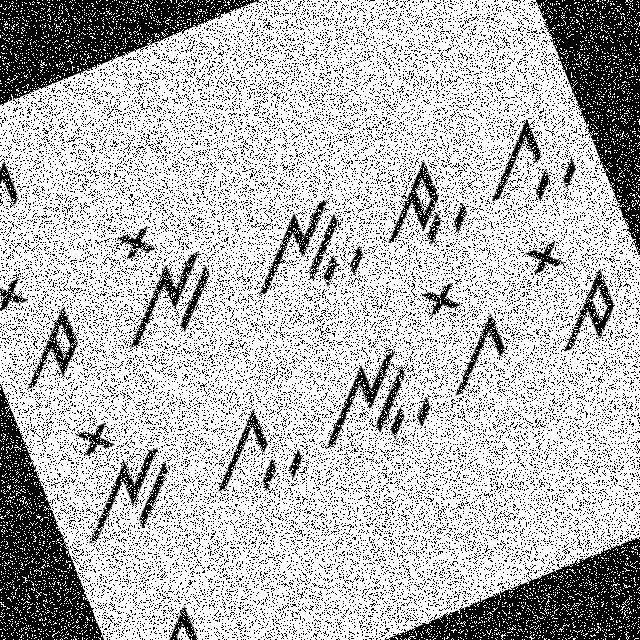gah: (454, 94, 590, 220), (181, 388, 314, 514)
go: (412, 264, 520, 399), (0, 109, 39, 255)
ngah: (228, 174, 378, 315), (296, 332, 441, 466)
ngo: (39, 390, 198, 557), (78, 195, 234, 364)
tah: (357, 146, 476, 264), (109, 585, 242, 639)
to: (512, 217, 632, 364), (0, 261, 96, 401)
